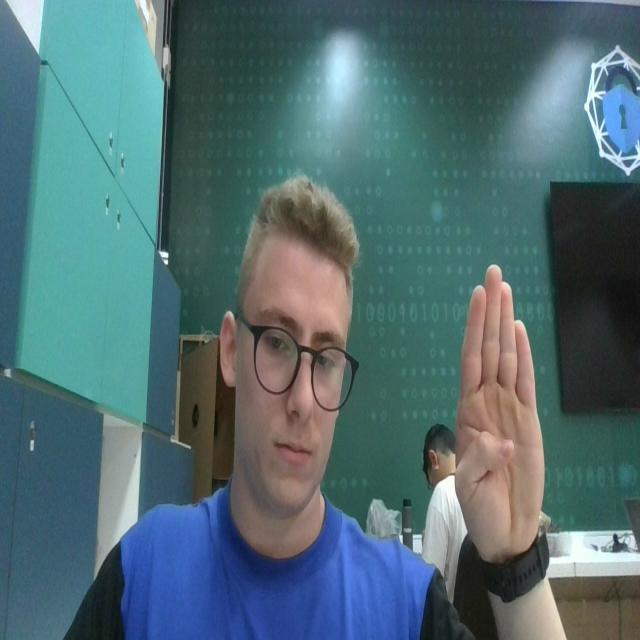B: (453, 261, 548, 555)
